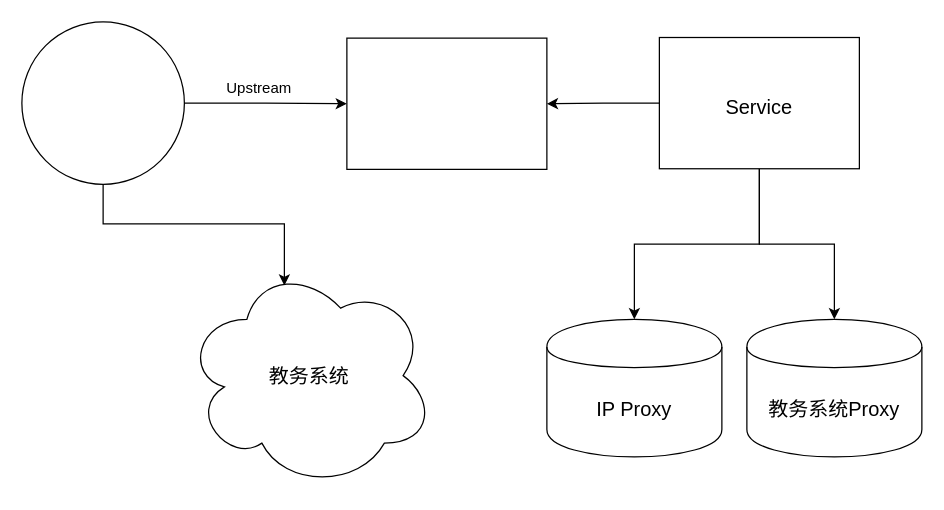
This 944x510 diagram has some shape labels left out. The centre of each missing label's shape, as x and y in pixels:
Consul: point 446,103
Nginx: point 102,102
